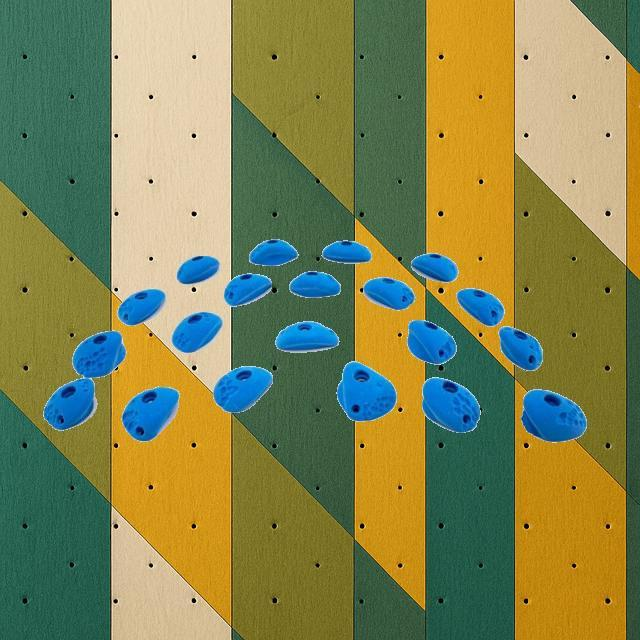Crimp: (336, 361, 396, 422), (520, 388, 586, 442), (420, 377, 480, 433), (121, 386, 179, 440), (212, 365, 272, 413), (43, 377, 95, 429), (71, 329, 125, 376), (406, 320, 456, 364), (170, 312, 222, 352), (498, 326, 542, 370), (276, 320, 338, 350), (456, 288, 504, 326), (362, 276, 414, 310), (117, 288, 165, 324), (224, 272, 272, 306), (410, 252, 458, 282), (288, 270, 339, 298), (248, 238, 298, 266), (177, 254, 220, 284), (322, 240, 371, 262)
